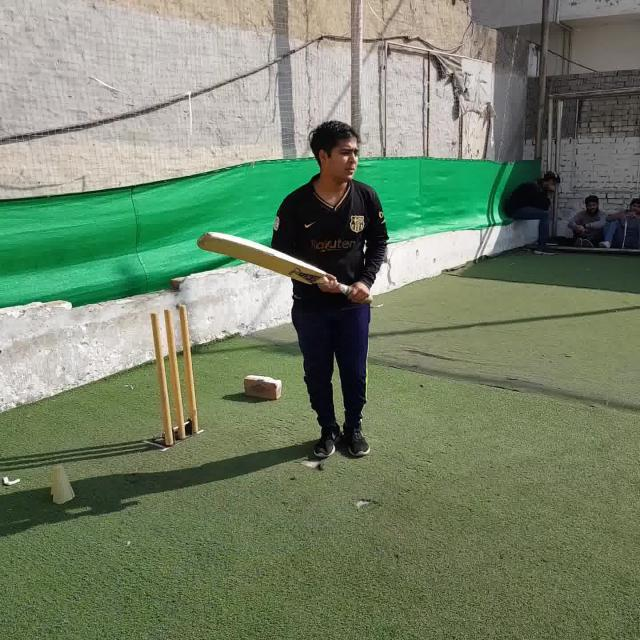bat: (197, 232, 374, 301)
